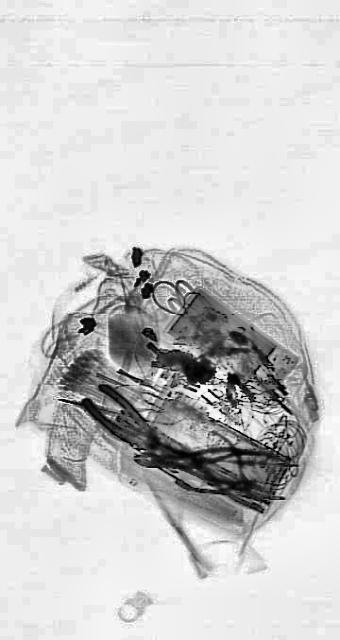Pliers: (79, 367, 171, 475), (133, 437, 277, 493)
